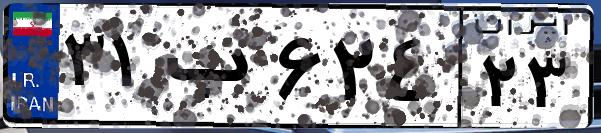1: (110, 28, 158, 98)
2: (330, 28, 385, 110), (475, 38, 525, 113)
3: (57, 26, 110, 100), (525, 38, 570, 115)
4: (385, 28, 445, 110)
6: (270, 28, 330, 110)
ب: (158, 20, 270, 120)
